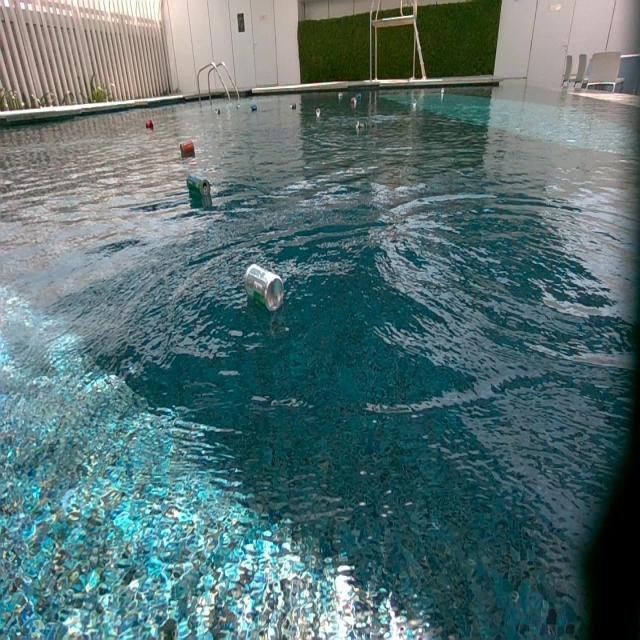Cans: (245, 263, 284, 313), (188, 175, 212, 198), (179, 140, 194, 156), (355, 120, 366, 132), (145, 118, 154, 129), (352, 96, 361, 106), (289, 102, 297, 111), (250, 104, 258, 113), (214, 107, 222, 116), (411, 99, 419, 108), (316, 108, 322, 117), (338, 94, 344, 101), (441, 87, 446, 95), (237, 103, 241, 110)
